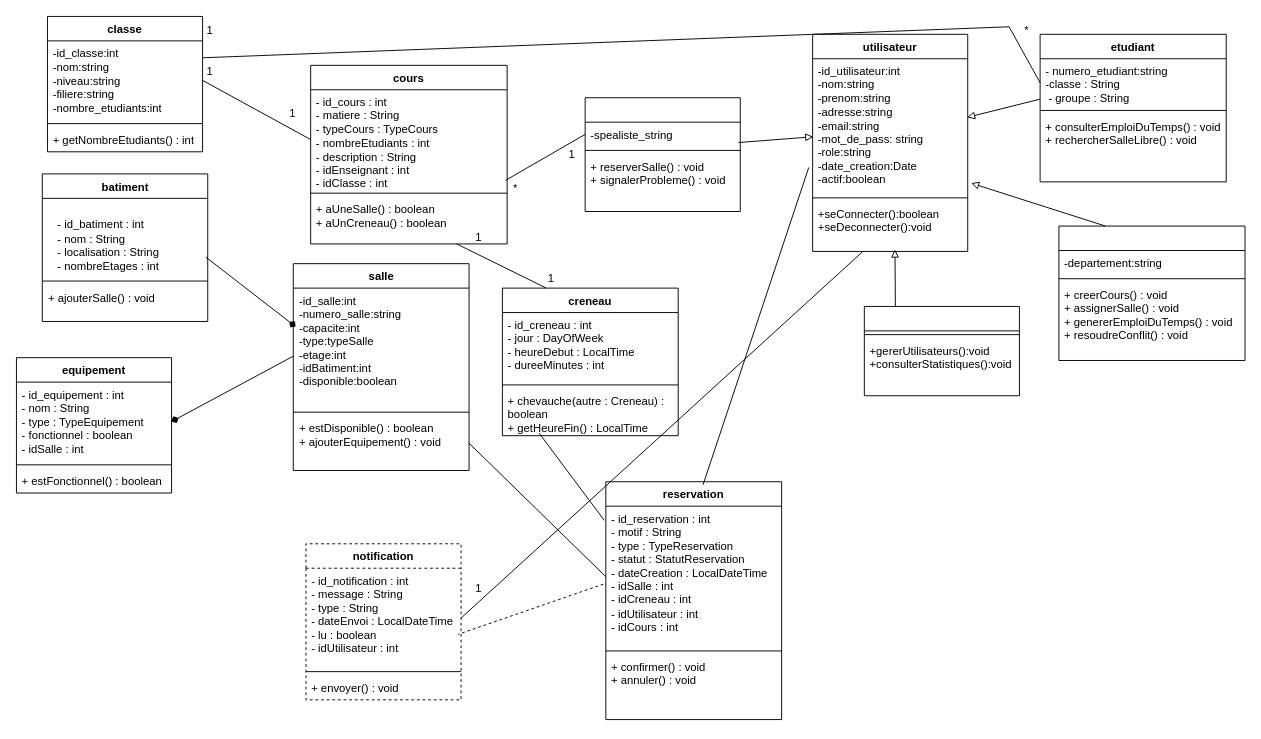
Image size: 1261x739. Some labels were removed from this diagram. Here are the shapes that lost their labels. From the top down, the box of each, then its label:
(584, 97, 740, 212): professeur
(1058, 225, 1245, 360): gestionnaire
(863, 306, 1019, 396): administrateur
